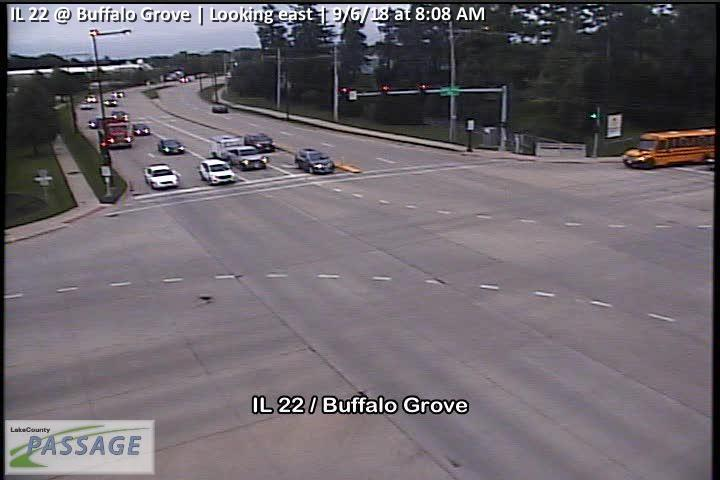Bus: (621, 128, 716, 170)
SUV: (294, 147, 336, 174), (199, 159, 237, 185), (143, 164, 178, 189), (244, 132, 276, 152)
Sedan: (157, 137, 186, 154), (133, 123, 150, 135)
Truck: (210, 134, 268, 171), (96, 116, 134, 148)
